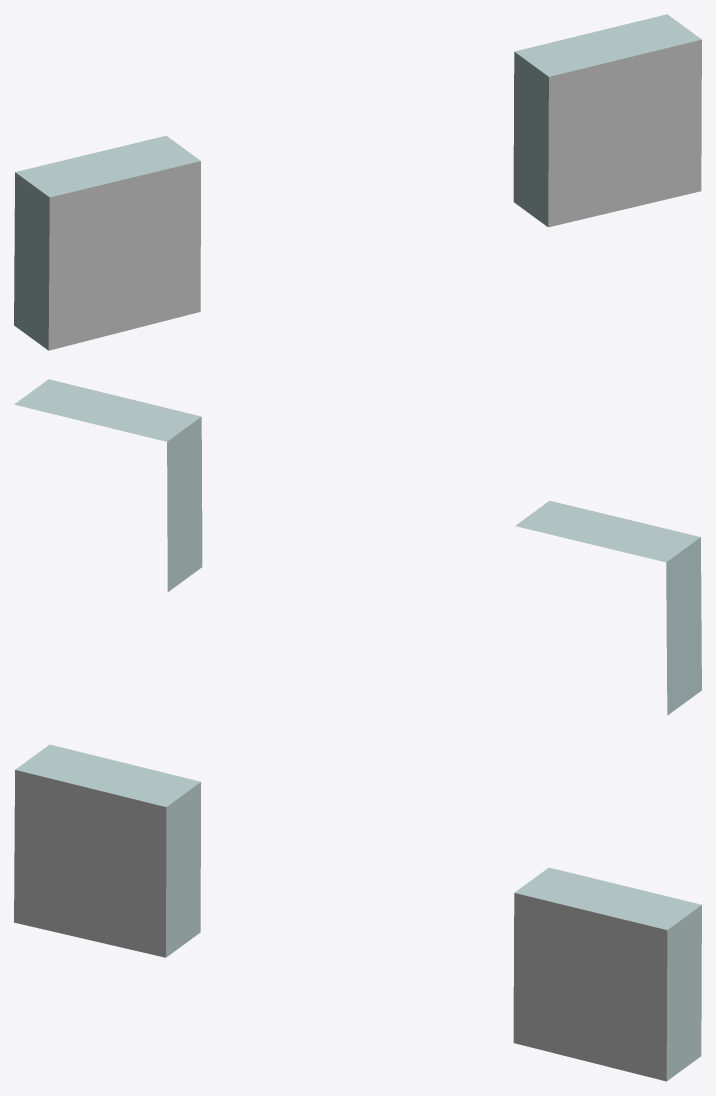
3 views of the same model, one above another, from view 1: azimuth 30°, elevation 25°; view 2: azimuth 150°, elevation 25°; view 3: azimuth 330°, elevation 25° (orthographic).
Parts seen in each view (by area): view 1: 0_2_1_1_0_0_3_0_0; view 2: 0_2_1_1_0_0_3_0_0; view 3: 0_2_1_1_0_0_3_0_0.
Part boxes in pixels (x1,y1,x2,y2): 0_2_1_1_0_0_3_0_0: (14, 14, 701, 350); 0_2_1_1_0_0_3_0_0: (14, 379, 701, 715); 0_2_1_1_0_0_3_0_0: (14, 744, 701, 1081).
Size of the model in its own units: 32.63 by 7.3 by 3.
